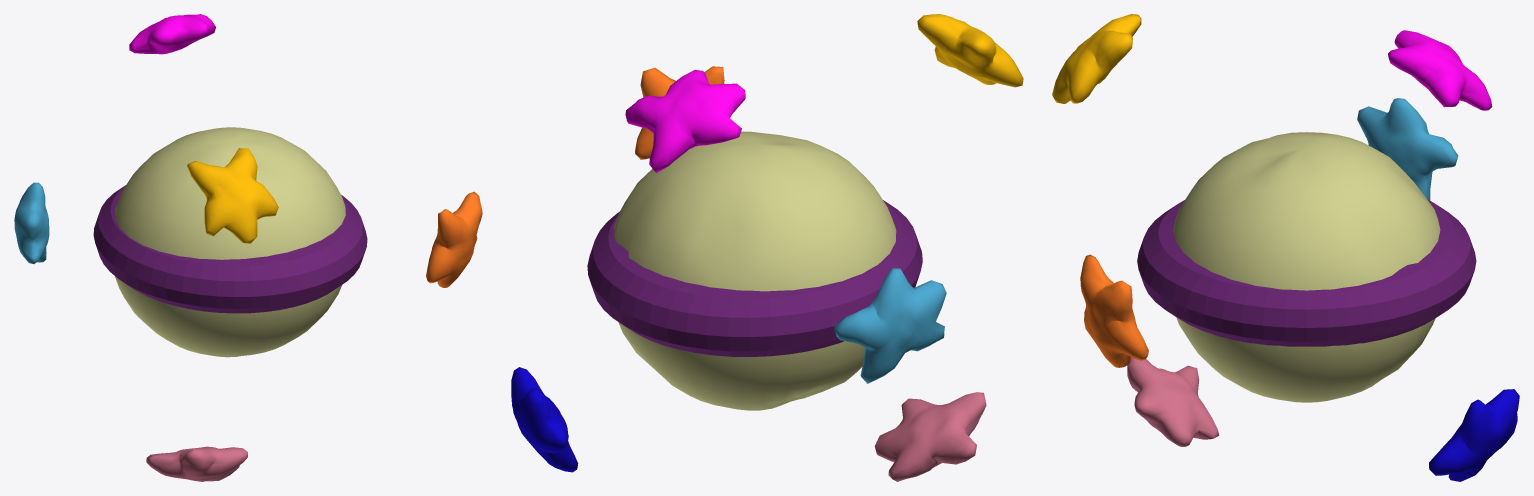
3 views of the same model, side by side, from view 1: azimuth 30°, elevation 25°; view 2: azimuth 150°, elevation 25°; view 3: azimuth 270°, elevation 25° (orthographic). The views are drawn at different scales.
Visible parts, largest first — view 1: Sphere_3, ring_2, star4_6, star6_4, star2_8, Star1_9, star3_7; view 2: Sphere_3, ring_2, star3_7, Star1_9, star2_8, star4_6, star5_5, star6_4; view 3: Sphere_3, ring_2, star2_8, star3_7, star6_4, star5_5, Star1_9, star4_6.
Boxes of the visible parts, bbox=[...] form: Sphere_3: bbox=[115, 127, 345, 357]; ring_2: bbox=[93, 185, 367, 313]; star4_6: bbox=[187, 148, 278, 243]; star6_4: bbox=[426, 191, 482, 287]; star2_8: bbox=[146, 446, 247, 481]; Star1_9: bbox=[129, 14, 215, 54]; star3_7: bbox=[14, 182, 49, 263]; Sphere_3: bbox=[614, 131, 896, 410]; ring_2: bbox=[587, 200, 922, 356]; star3_7: bbox=[833, 268, 946, 383]; Star1_9: bbox=[625, 70, 745, 173]; star2_8: bbox=[874, 392, 986, 481]; star4_6: bbox=[917, 14, 1023, 87]; star5_5: bbox=[511, 367, 578, 472]; star6_4: bbox=[635, 66, 724, 159]; Sphere_3: bbox=[1173, 132, 1440, 402]; ring_2: bbox=[1137, 199, 1476, 346]; star2_8: bbox=[1127, 357, 1219, 446]; star3_7: bbox=[1357, 98, 1458, 200]; star6_4: bbox=[1080, 254, 1148, 367]; star5_5: bbox=[1429, 389, 1519, 481]; Star1_9: bbox=[1388, 30, 1492, 110]; star4_6: bbox=[1052, 14, 1141, 103].
Bounding box in the file's own units: 2.18 × 2.22 × 2.14.
Materials: 8 (8 with a texture image).
